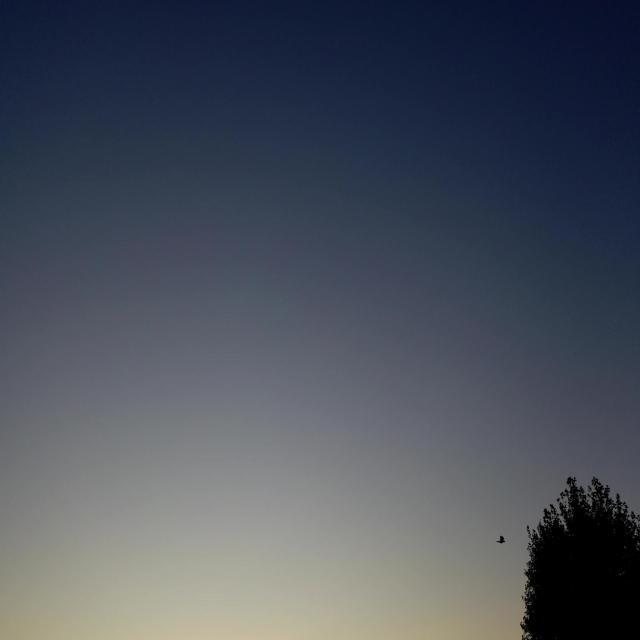Birds: (494, 532, 510, 546)
